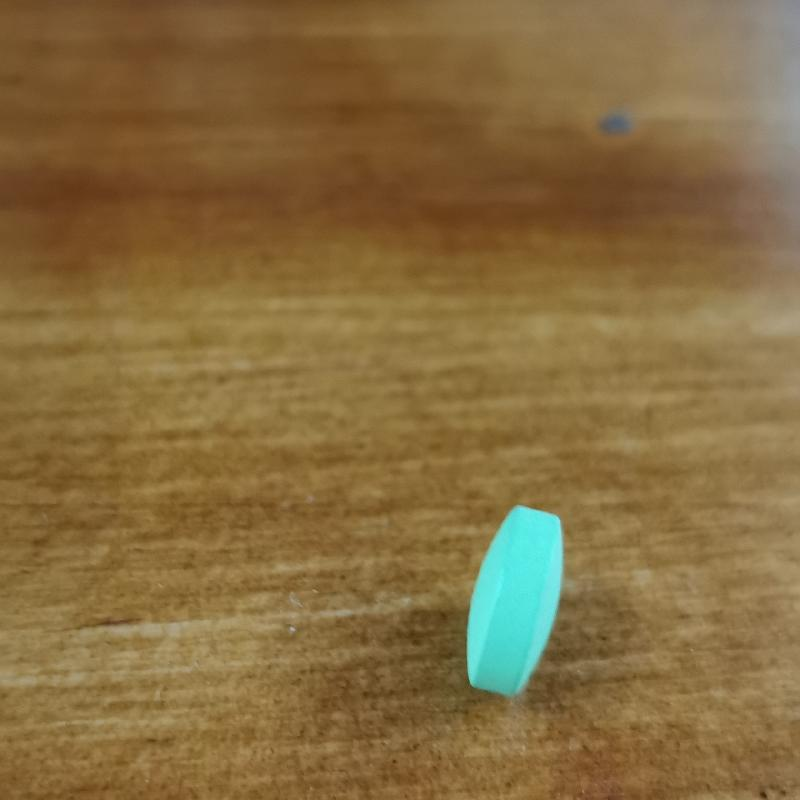pills: (453, 501, 593, 709)
